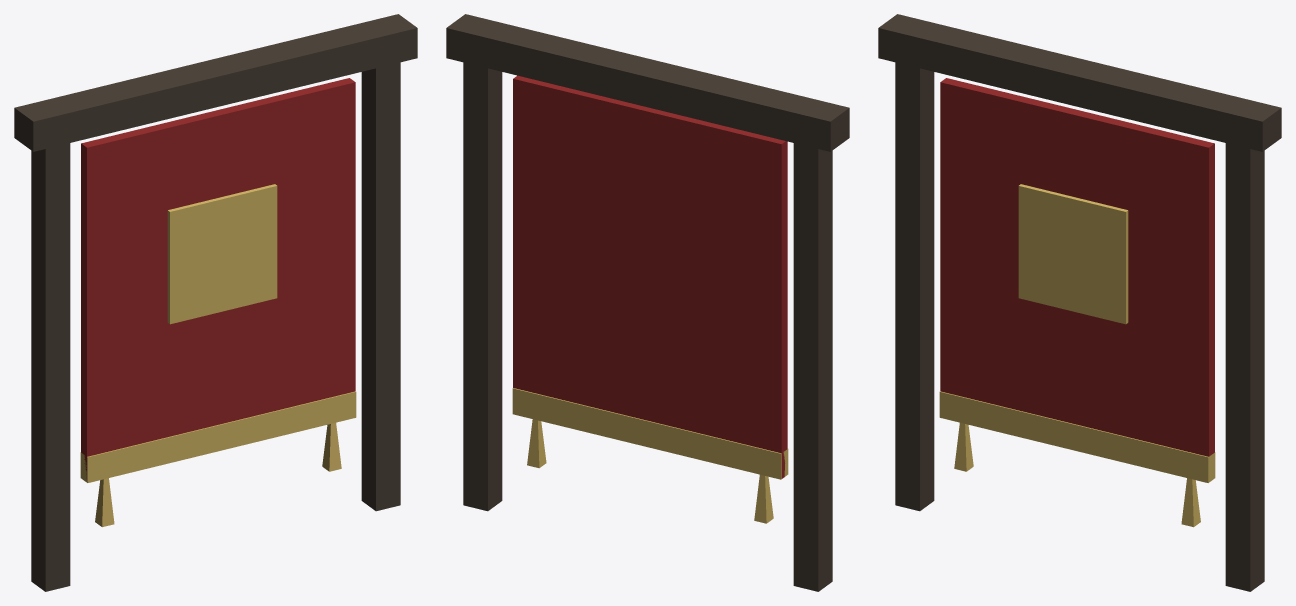
File: hanging_banner.glb
The picture shows the model from 3 angles, left to right: view 1: azimuth 30°, elevation 25°; view 2: azimuth 150°, elevation 25°; view 3: azimuth 330°, elevation 25°; orthographic projection.
Visible parts, largest first — view 1: hanging_banner; view 2: hanging_banner; view 3: hanging_banner.
Part boxes in pixels (x1,y1,x2,y2): hanging_banner: [14, 14, 417, 591]; hanging_banner: [446, 14, 849, 591]; hanging_banner: [878, 14, 1281, 591].
Bounding box in the file's own units: 1.86 × 2.2 × 0.16.
Materials: 1 (1 with a texture image).
